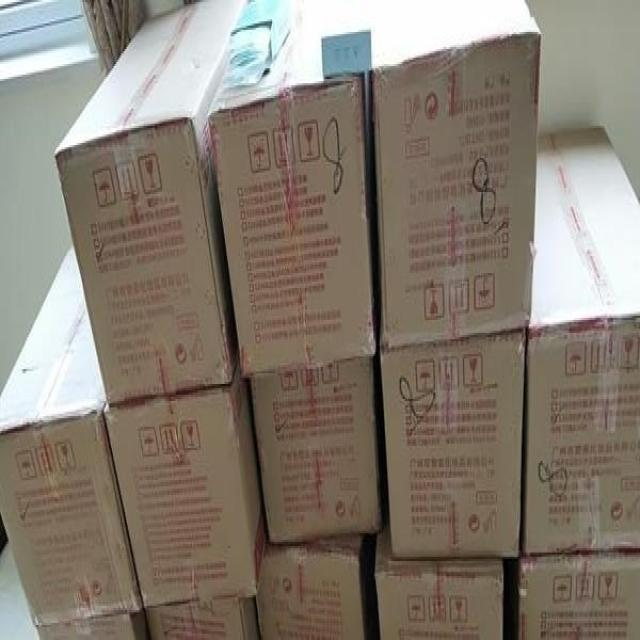box: (54, 4, 247, 404), (209, 2, 373, 381), (363, 0, 541, 348), (0, 242, 143, 627), (522, 122, 639, 558), (103, 366, 270, 608), (376, 329, 526, 561), (250, 350, 380, 550), (374, 492, 503, 638), (255, 532, 378, 638), (504, 552, 639, 638), (146, 591, 261, 638), (36, 610, 145, 638)
